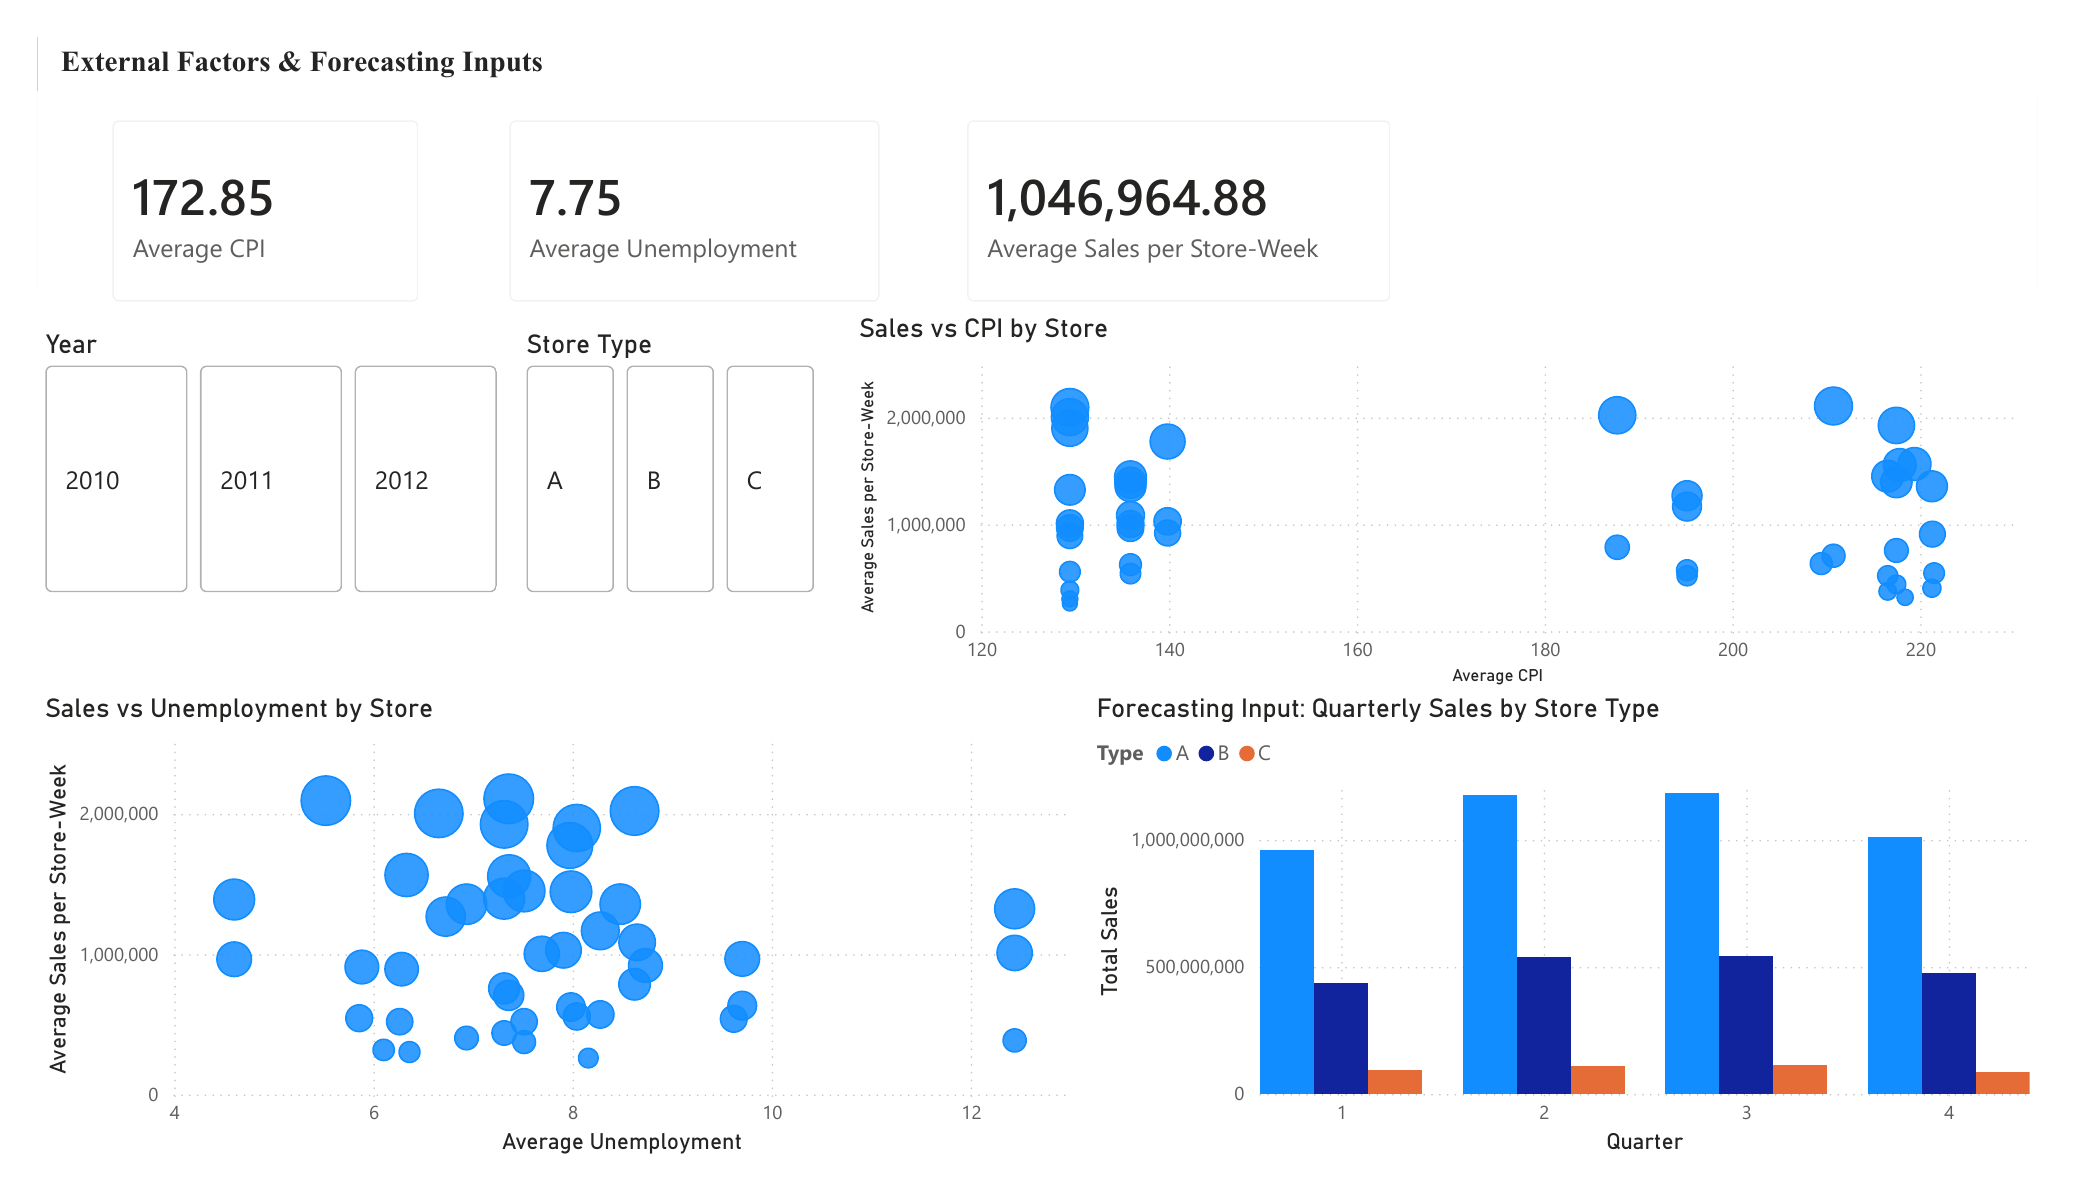

What the dashboard file says about the page in this screenshot:
{"tool":"powerbi","page":{"name":"Page 4","canvas":[1280,720],"ordinal":3},"visuals":[{"type":"textbox","box":[10,0,438.8,36.2],"z":0},{"type":"cardVisual","fields":{"Data":["features.Average CPI"]},"box":[31.2,36.2,230,150],"z":1000},{"type":"cardVisual","fields":{"Data":["features.Average Unemployment"]},"box":[285,36.2,271.2,150],"z":2000},{"type":"cardVisual","fields":{"Data":["features.Average Sales per Store-Week"]},"box":[577.5,36.2,305,150],"z":3000},{"type":"scatterChart","title":"Sales vs CPI by Store","fields":{"X":["features.Average CPI"],"Category":["features.Store"],"Y":["features.Average Sales per Store-Week"],"Size":["features.Total Sales"]},"box":[521.2,176.2,758.8,242.5],"z":4000},{"type":"scatterChart","title":"Sales vs Unemployment by Store","fields":{"Category":["features.Store"],"X":["features.Average Unemployment"],"Y":["features.Average Sales per Store-Week"],"Size":["features.Total Sales"]},"box":[0,418.8,672.5,301.2],"z":5000},{"type":"clusteredColumnChart","title":" Forecasting Input: Quarterly Sales by Store Type","fields":{"Category":["features.Quarter"],"Y":["features.Total Sales"],"Series":["stores.Type"]},"box":[672.5,418.8,607.5,301.2],"z":6000},{"type":"advancedSlicerVisual","fields":{"Values":["features.Year"]},"box":[0,186.2,298.8,173.8],"z":7000},{"type":"advancedSlicerVisual","title":"Store Type","fields":{"Values":["stores.Type"]},"box":[307.5,186.2,196.2,173.8],"z":8000}]}

Visuals, with their boxes on the page's 1280x720 design canvas (x1, y1, x2, y2). These are canvas units, not pixel positions in the 2075x1200 screenshot, which may show the page scaled, cropped or inside an application window:
textbox: x1=10, y1=0, x2=449, y2=36
cardVisual - features.Average CPI: x1=31, y1=36, x2=261, y2=186
cardVisual - features.Average Unemployment: x1=285, y1=36, x2=556, y2=186
cardVisual - features.Average Sales per Store-Week: x1=578, y1=36, x2=882, y2=186
"Sales vs CPI by Store" scatterChart: x1=521, y1=176, x2=1280, y2=419
"Sales vs Unemployment by Store" scatterChart: x1=0, y1=419, x2=672, y2=720
" Forecasting Input: Quarterly Sales by Store Type" clusteredColumnChart: x1=672, y1=419, x2=1280, y2=720
advancedSlicerVisual - features.Year: x1=0, y1=186, x2=299, y2=360
"Store Type" advancedSlicerVisual: x1=308, y1=186, x2=504, y2=360
